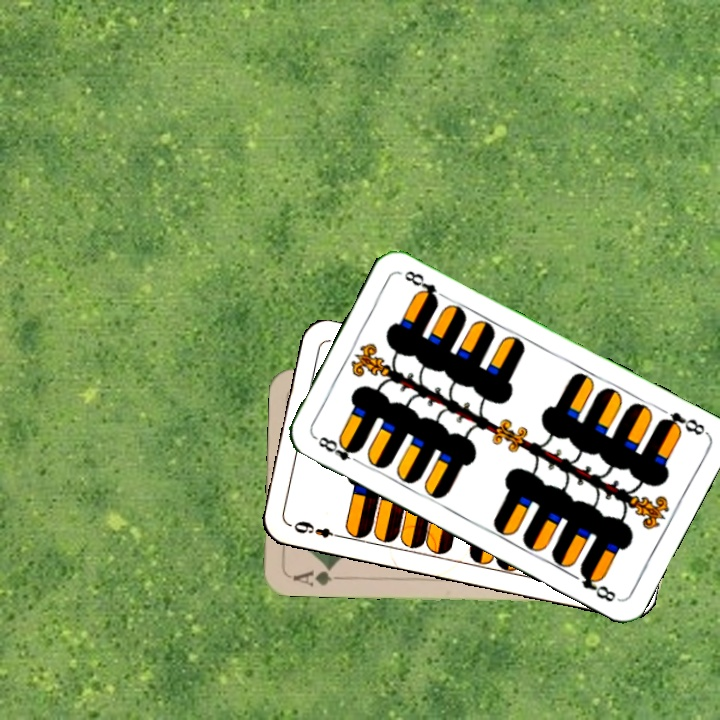E8: (310, 432, 365, 467), (655, 407, 709, 438)
E9: (289, 517, 345, 541)
GA: (289, 562, 346, 589)
